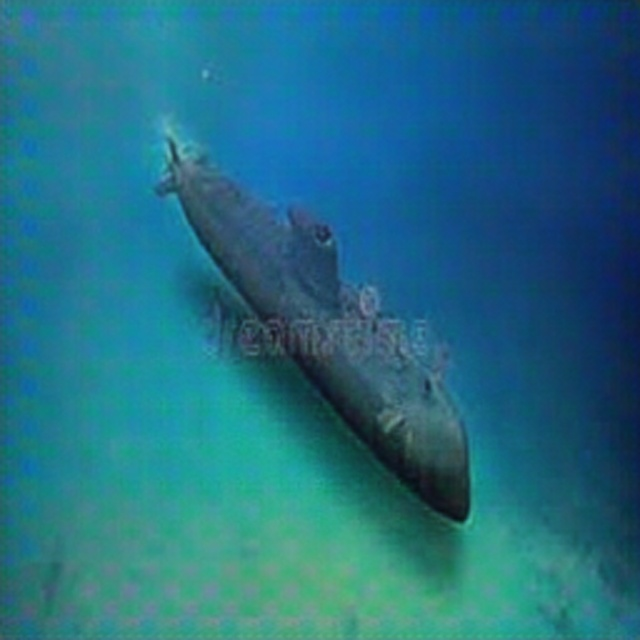submarine: (152, 114, 485, 549)
